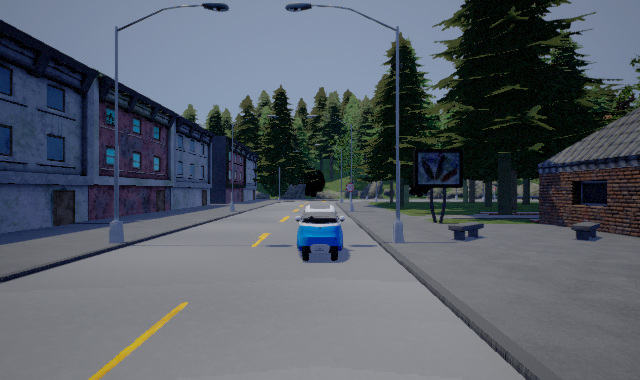traffic_sign: (346, 183, 355, 192)
vehicle: (295, 202, 348, 261)
